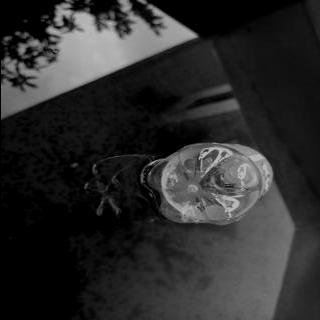bottle: (138, 140, 276, 228)
